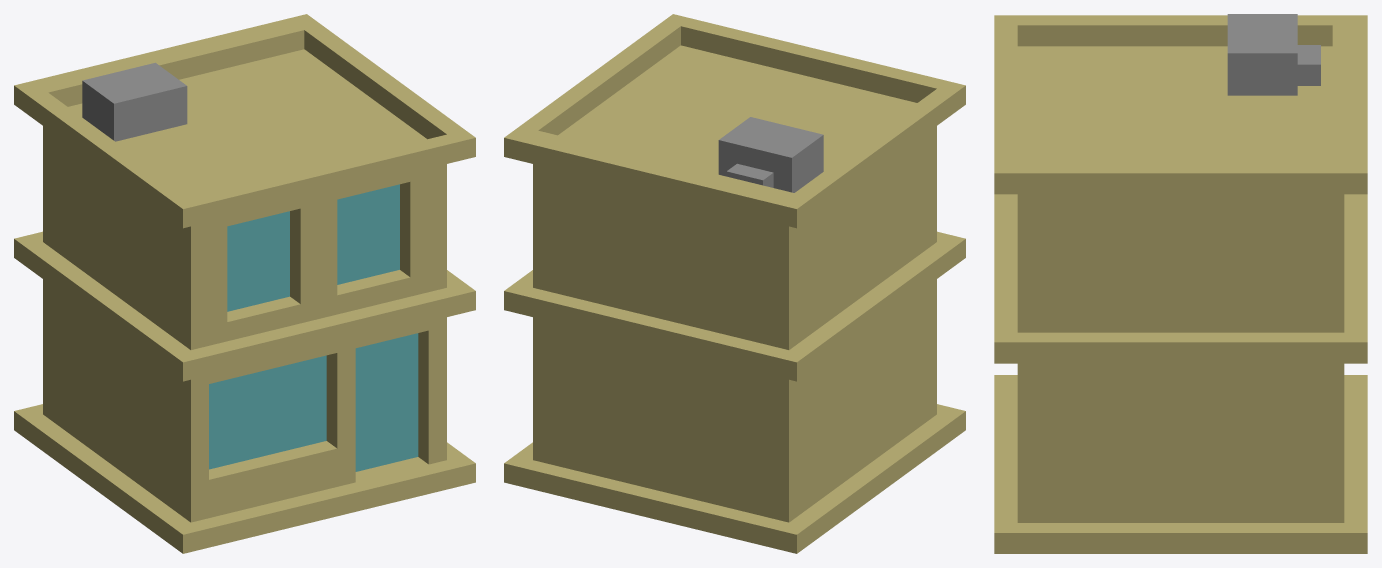
File: Building09.fbx
3 views of the same model, side by side, from view 1: azimuth 30°, elevation 25°; view 2: azimuth 150°, elevation 25°; view 3: azimuth 270°, elevation 25° (orthographic). The views are drawn at different scales.
Visible parts, largest first — view 1: ObjObject.012; view 2: ObjObject.012; view 3: ObjObject.012.
Part boxes in pixels (x1,y1,x2,y2): ObjObject.012: [14, 14, 475, 553]; ObjObject.012: [504, 14, 965, 553]; ObjObject.012: [994, 14, 1367, 553].
Bounding box in the file's own units: 320 × 320 × 380.
Materials: 1 (1 with a texture image).
